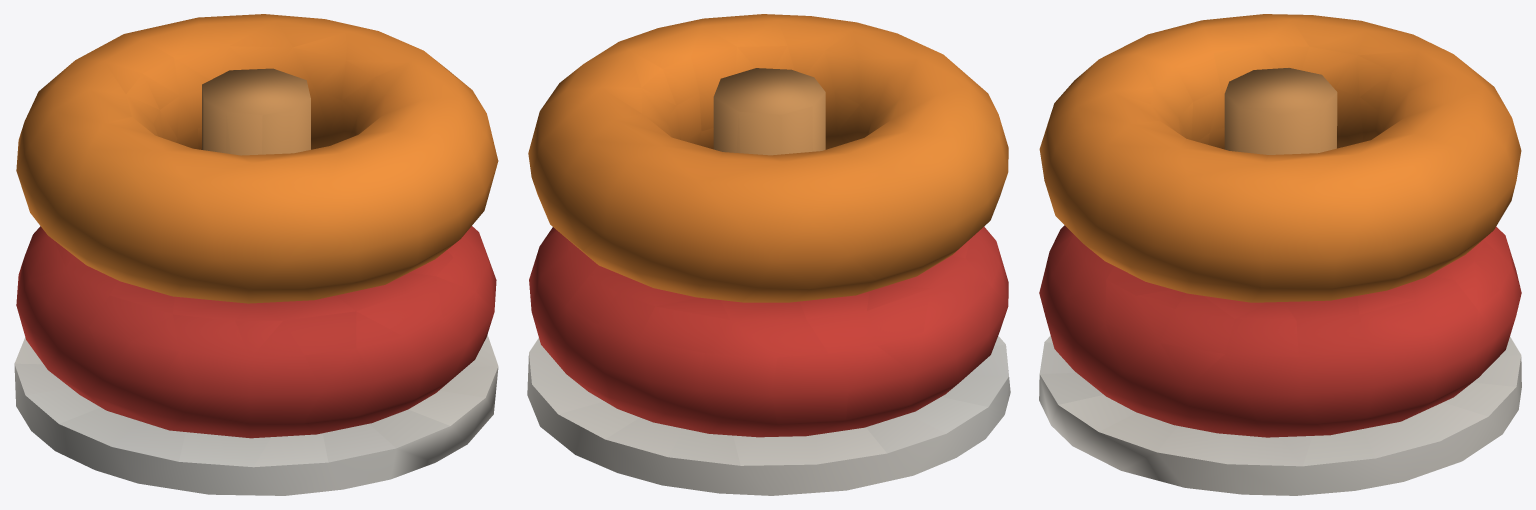
Rendered from den_ring_stack_lod1.glb.
3 views of the same model, side by side, from view 1: azimuth 30°, elevation 25°; view 2: azimuth 150°, elevation 25°; view 3: azimuth 270°, elevation 25° (orthographic).
Visible parts, largest first — view 1: den_ring_stack.001; view 2: den_ring_stack.001; view 3: den_ring_stack.001.
Boxes of the visible parts, box(x1,y1,x2,y2) form: den_ring_stack.001: box(14, 14, 498, 495); den_ring_stack.001: box(527, 14, 1010, 495); den_ring_stack.001: box(1039, 14, 1521, 495).
Bounding box in the file's own units: 5.2 × 3.6 × 5.2.
